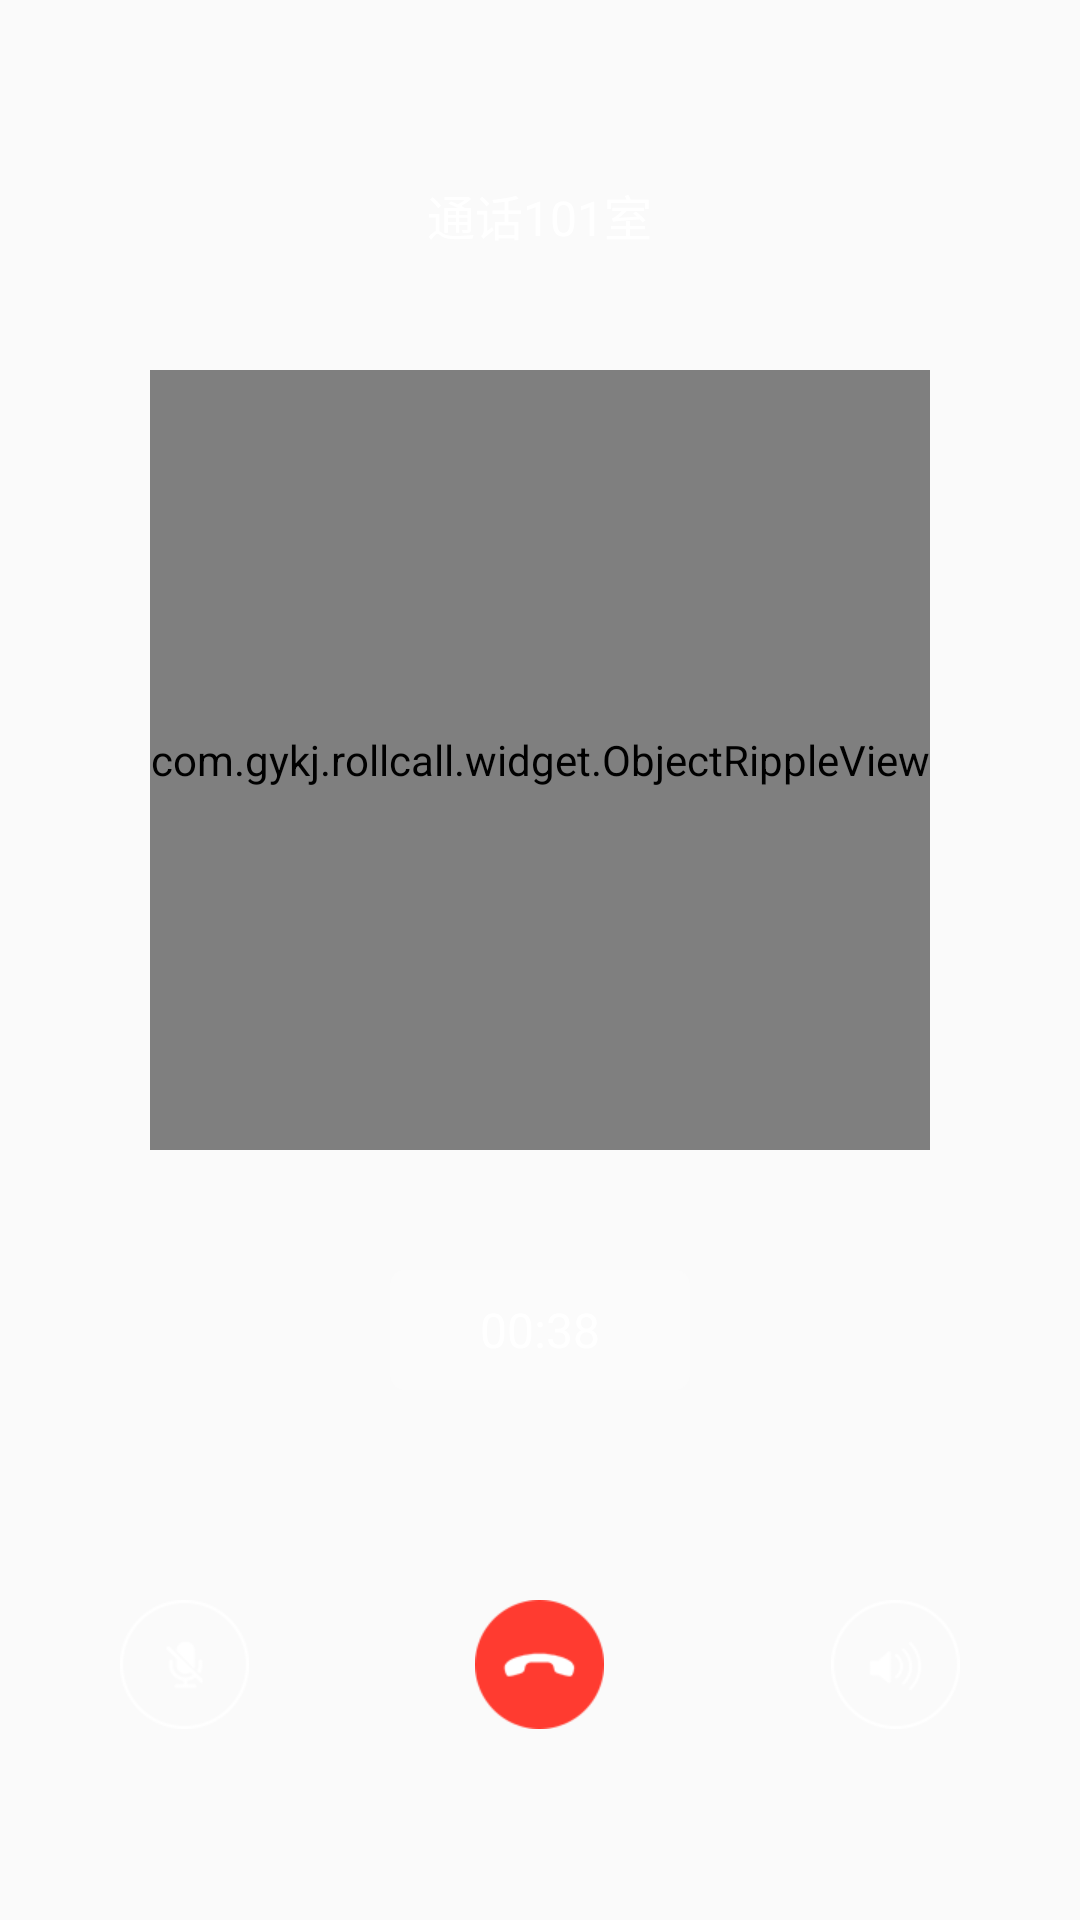

Icon click points for this 1080x1920 phone screenshot, format [x,y]:
hang up: [539,1664]
